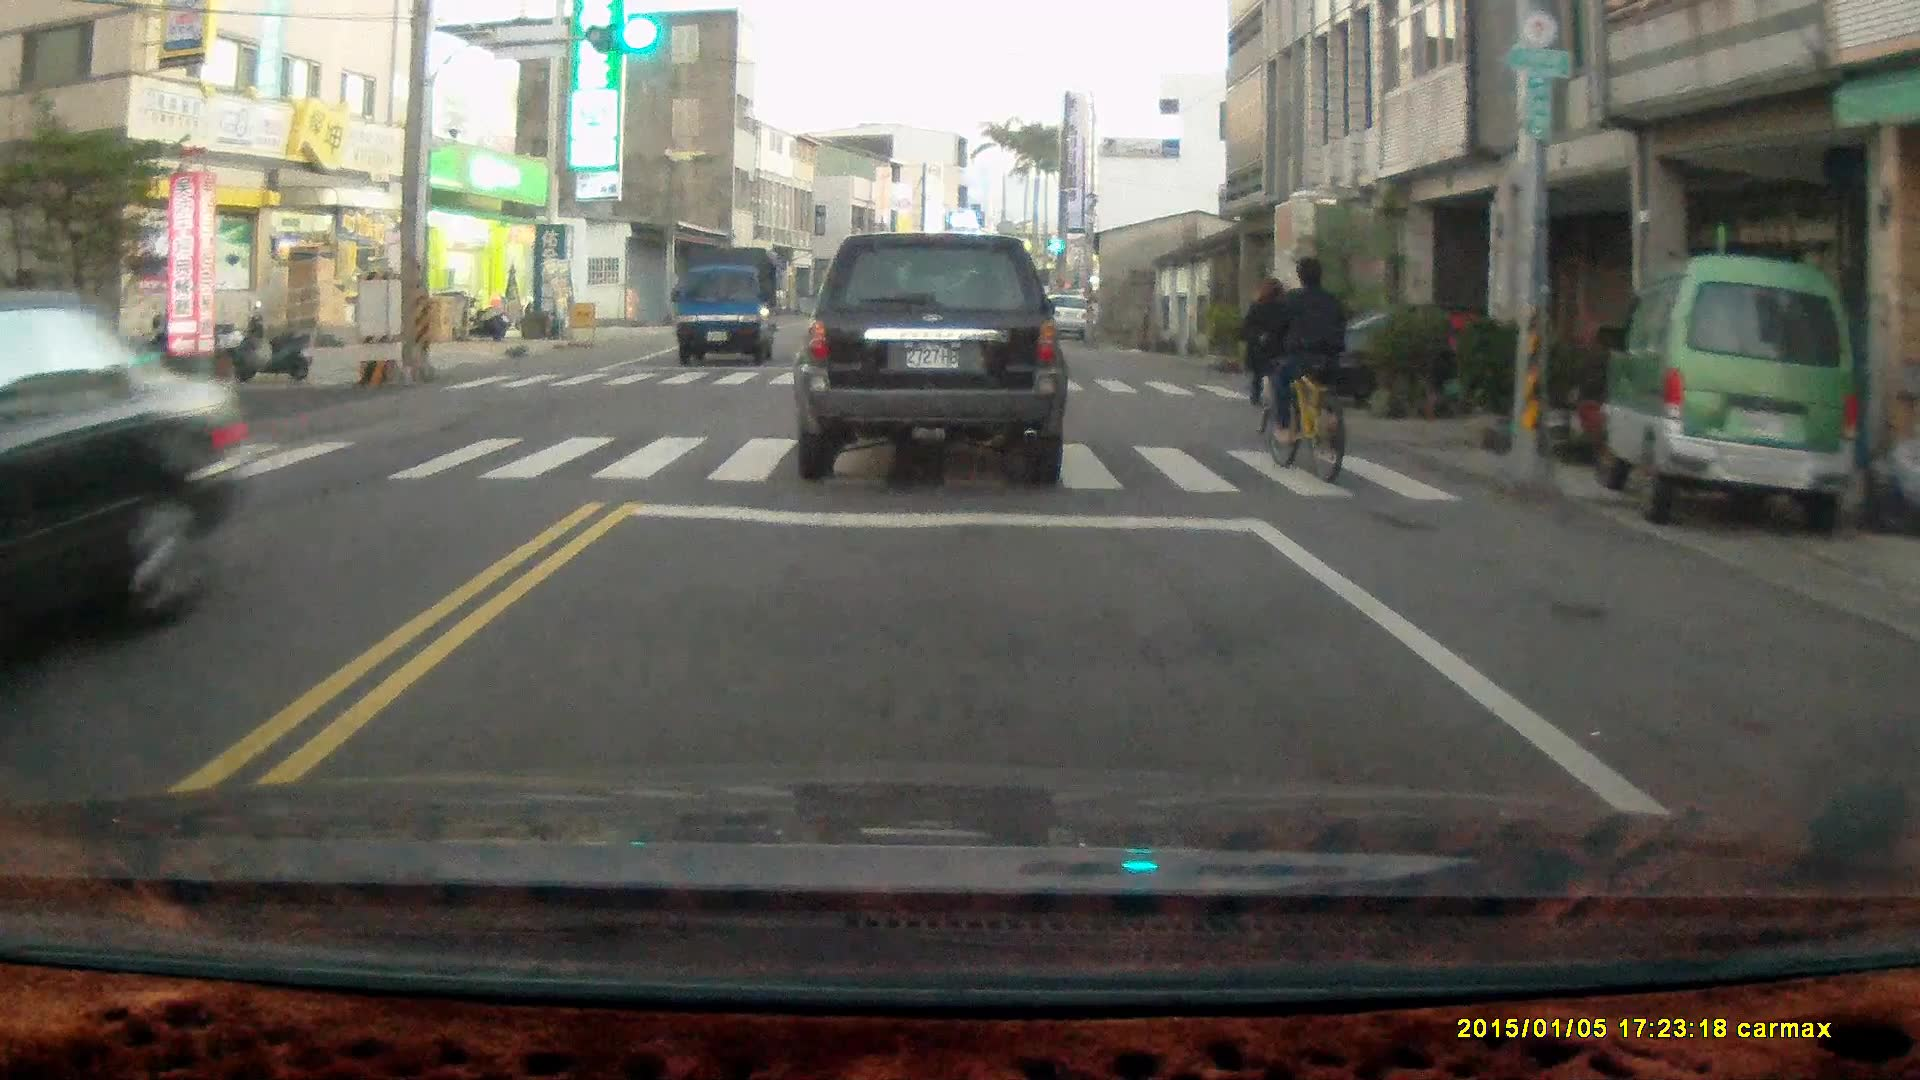rider: (1264, 253, 1355, 480), (1240, 274, 1301, 442)
vehicle: (2, 297, 241, 683), (1609, 256, 1870, 541), (796, 230, 1069, 483), (1323, 305, 1594, 421), (674, 251, 782, 366)
